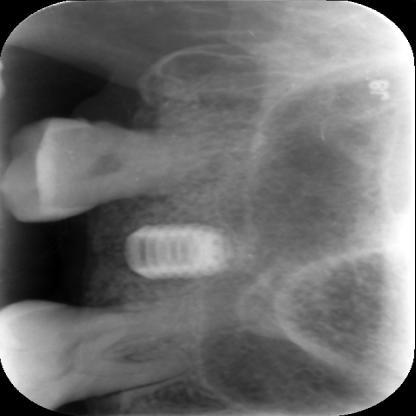Bicon: (125, 217, 227, 284)
